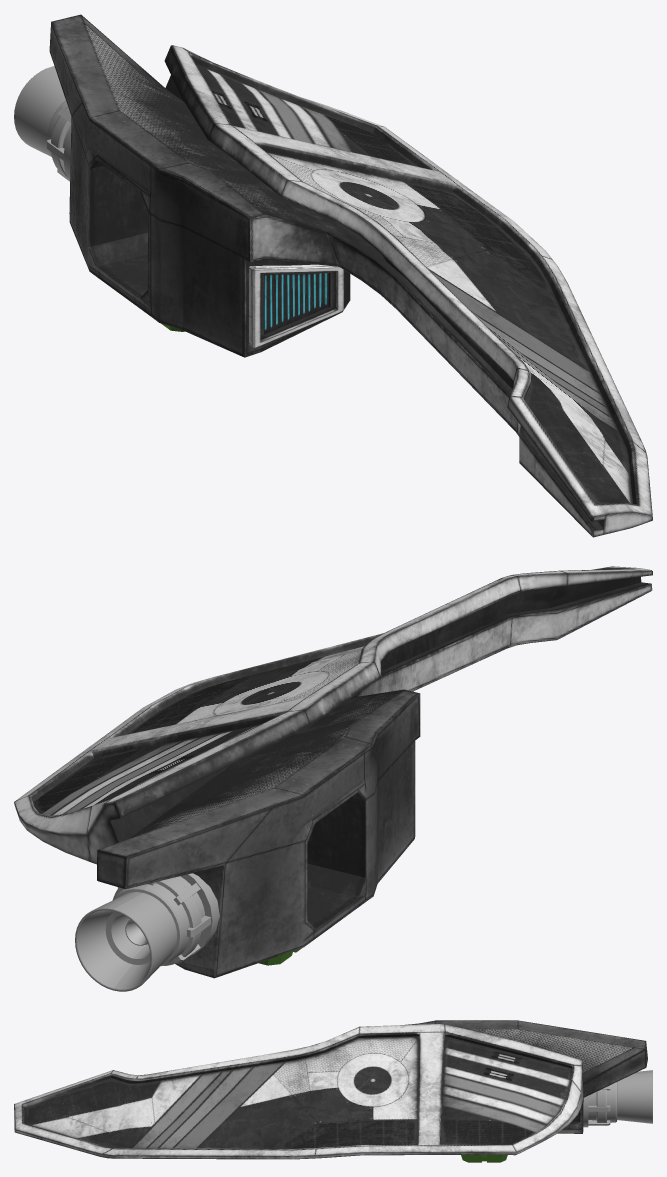
File: Wing Modules 2.fbx
3 renders of one model, top to bottom at view 1: azimuth 30°, elevation 25°; view 2: azimuth 150°, elevation 25°; view 3: azimuth 270°, elevation 25°, orthographic. The views are drawn at different scales.
Visible parts, largest first — view 1: polySurface128, Thruster; view 2: polySurface128, Thruster; view 3: polySurface128, Thruster.
Boxes of the visible parts, x1,y1,x2,y2 form: polySurface128: [47, 14, 652, 537]; Thruster: [14, 66, 65, 156]; polySurface128: [14, 566, 652, 978]; Thruster: [75, 892, 177, 991]; polySurface128: [14, 1020, 647, 1162]; Thruster: [617, 1070, 652, 1123].
Bounding box in the file's own units: 1515 × 1054 × 4797.
